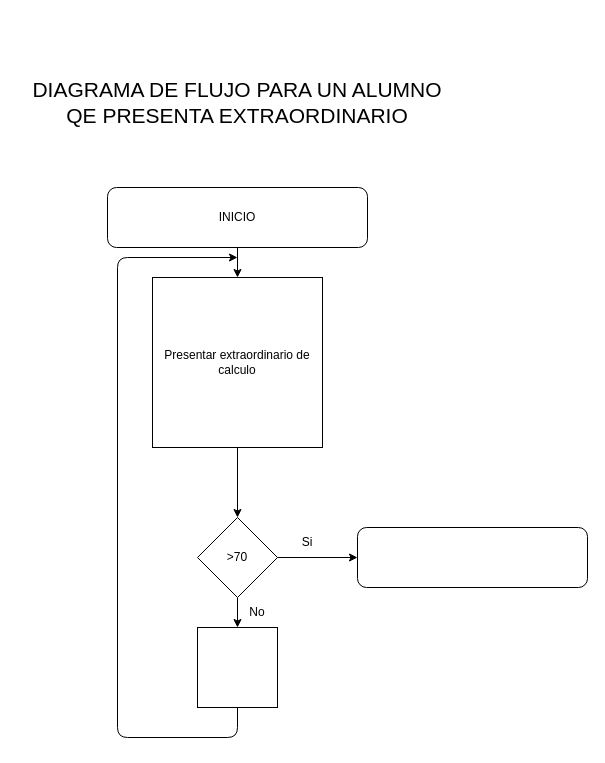
Image size: 605x763. Some labels were removed from this diagram. The shapes that lost their labels are listed below. From the top down, each one's centre as x and y in pixels, then its label:
the point at 472,557: FIN
the point at 237,667: Consejo
